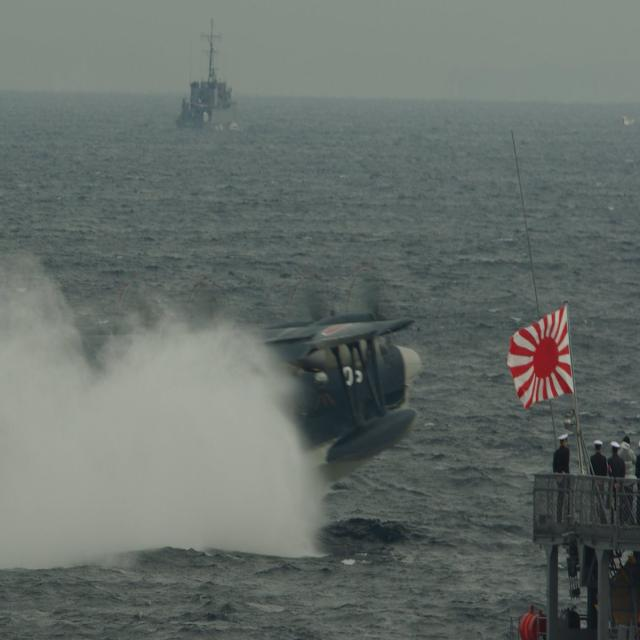MIL_Plane: (73, 260, 422, 492)
